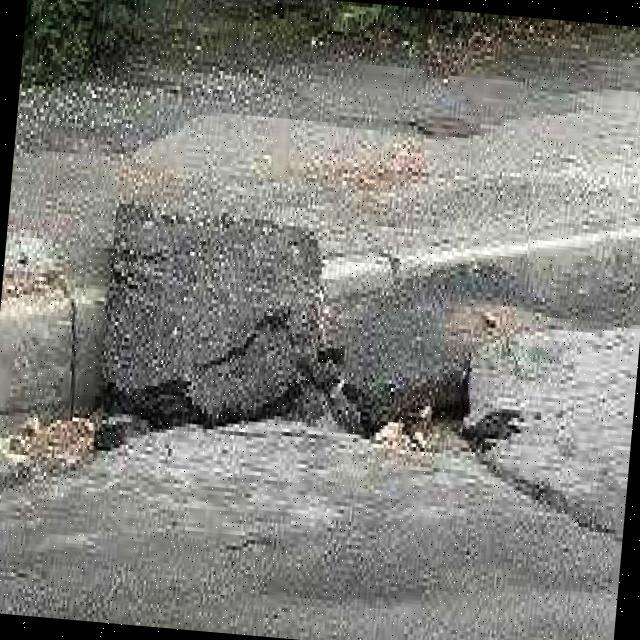curb: (1, 201, 640, 489)
